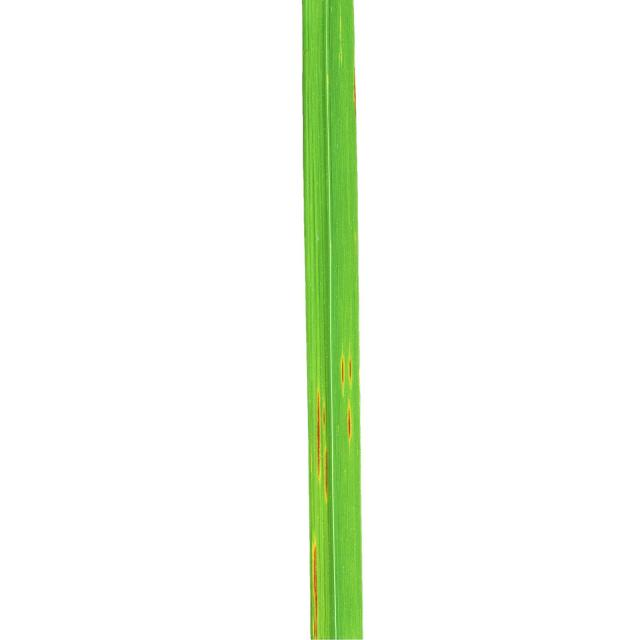Narrow brown: (240, 0, 514, 640)
